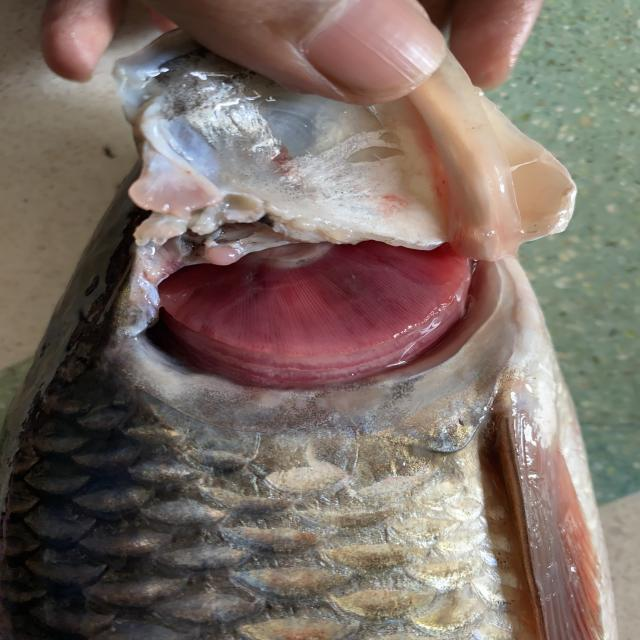Fresh: (127, 205, 513, 402)
